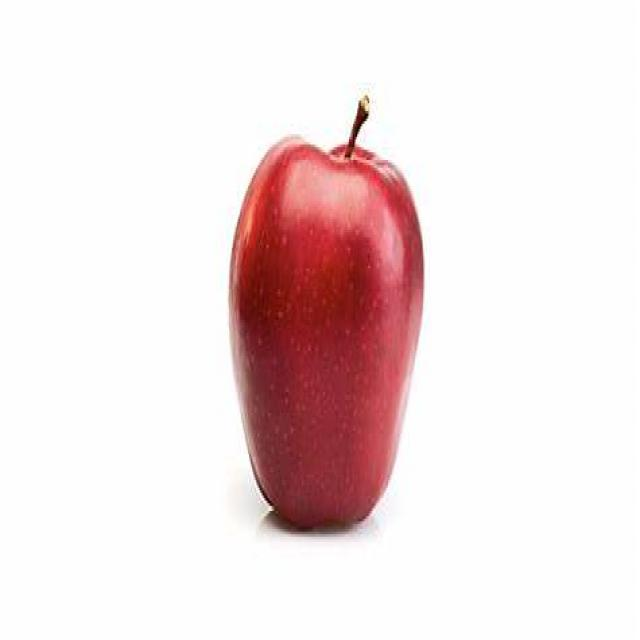Apple: (214, 88, 427, 536)
